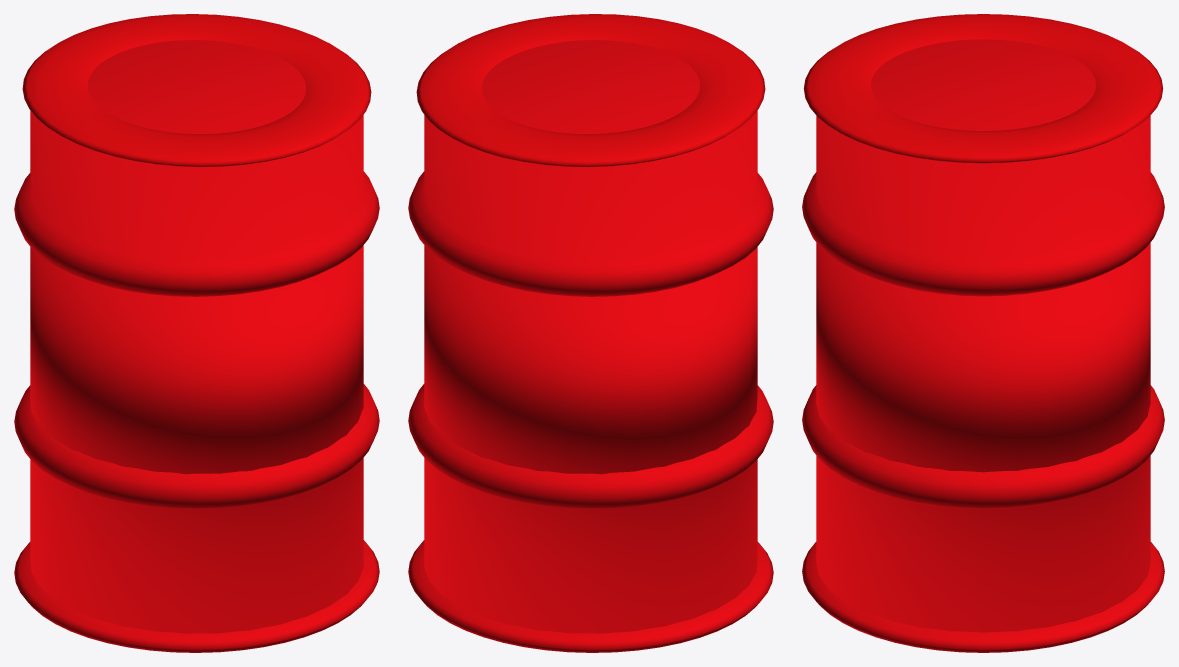
File: drumCan.gltf
3 views of the same model, side by side, from view 1: azimuth 30°, elevation 25°; view 2: azimuth 150°, elevation 25°; view 3: azimuth 270°, elevation 25° (orthographic).
Parts seen in each view (by area): view 1: トーラス.003; view 2: トーラス.003; view 3: トーラス.003.
Boxes of the visible parts, box(x1,y1,x2,y2) form: トーラス.003: box(14, 14, 379, 652); トーラス.003: box(408, 14, 773, 652); トーラス.003: box(802, 14, 1164, 652).
Size of the model in its own units: 2.2 by 3.31 by 2.17.
